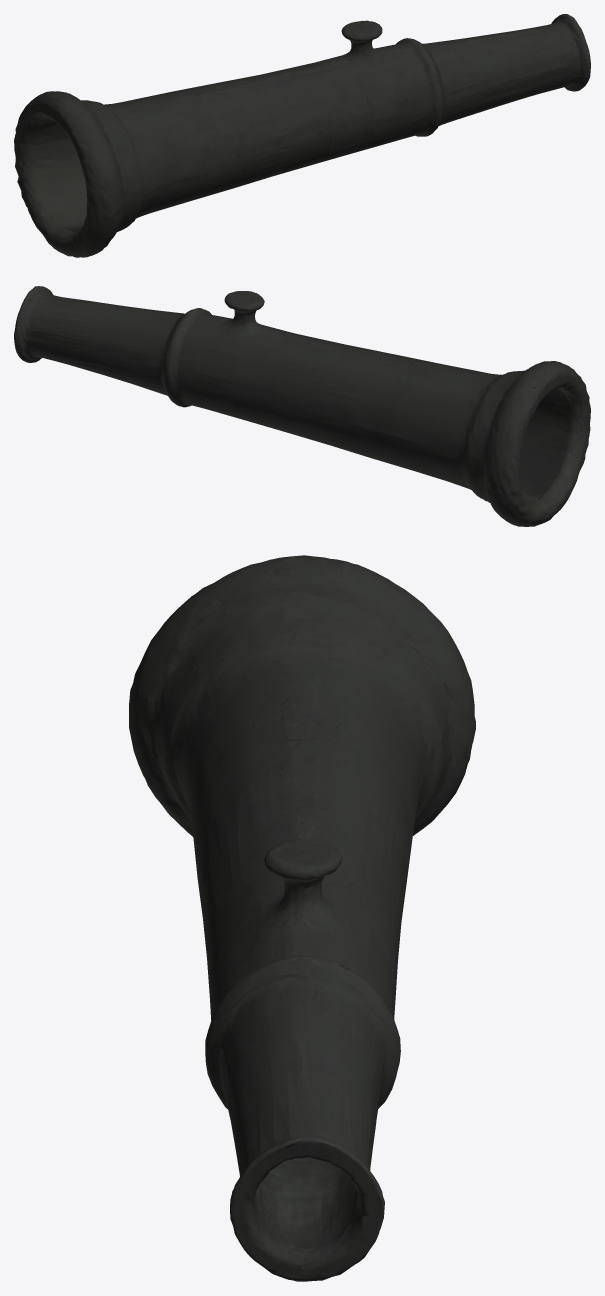
File: cannon-barrel.glb
3 views of the same model, one above another, from view 1: azimuth 30°, elevation 25°; view 2: azimuth 150°, elevation 25°; view 3: azimuth 270°, elevation 25° (orthographic). The views are drawn at different scales.
Size of the model in its own units: 1 by 0.2861 by 0.2891.
Materials: 1 (1 with a texture image).
